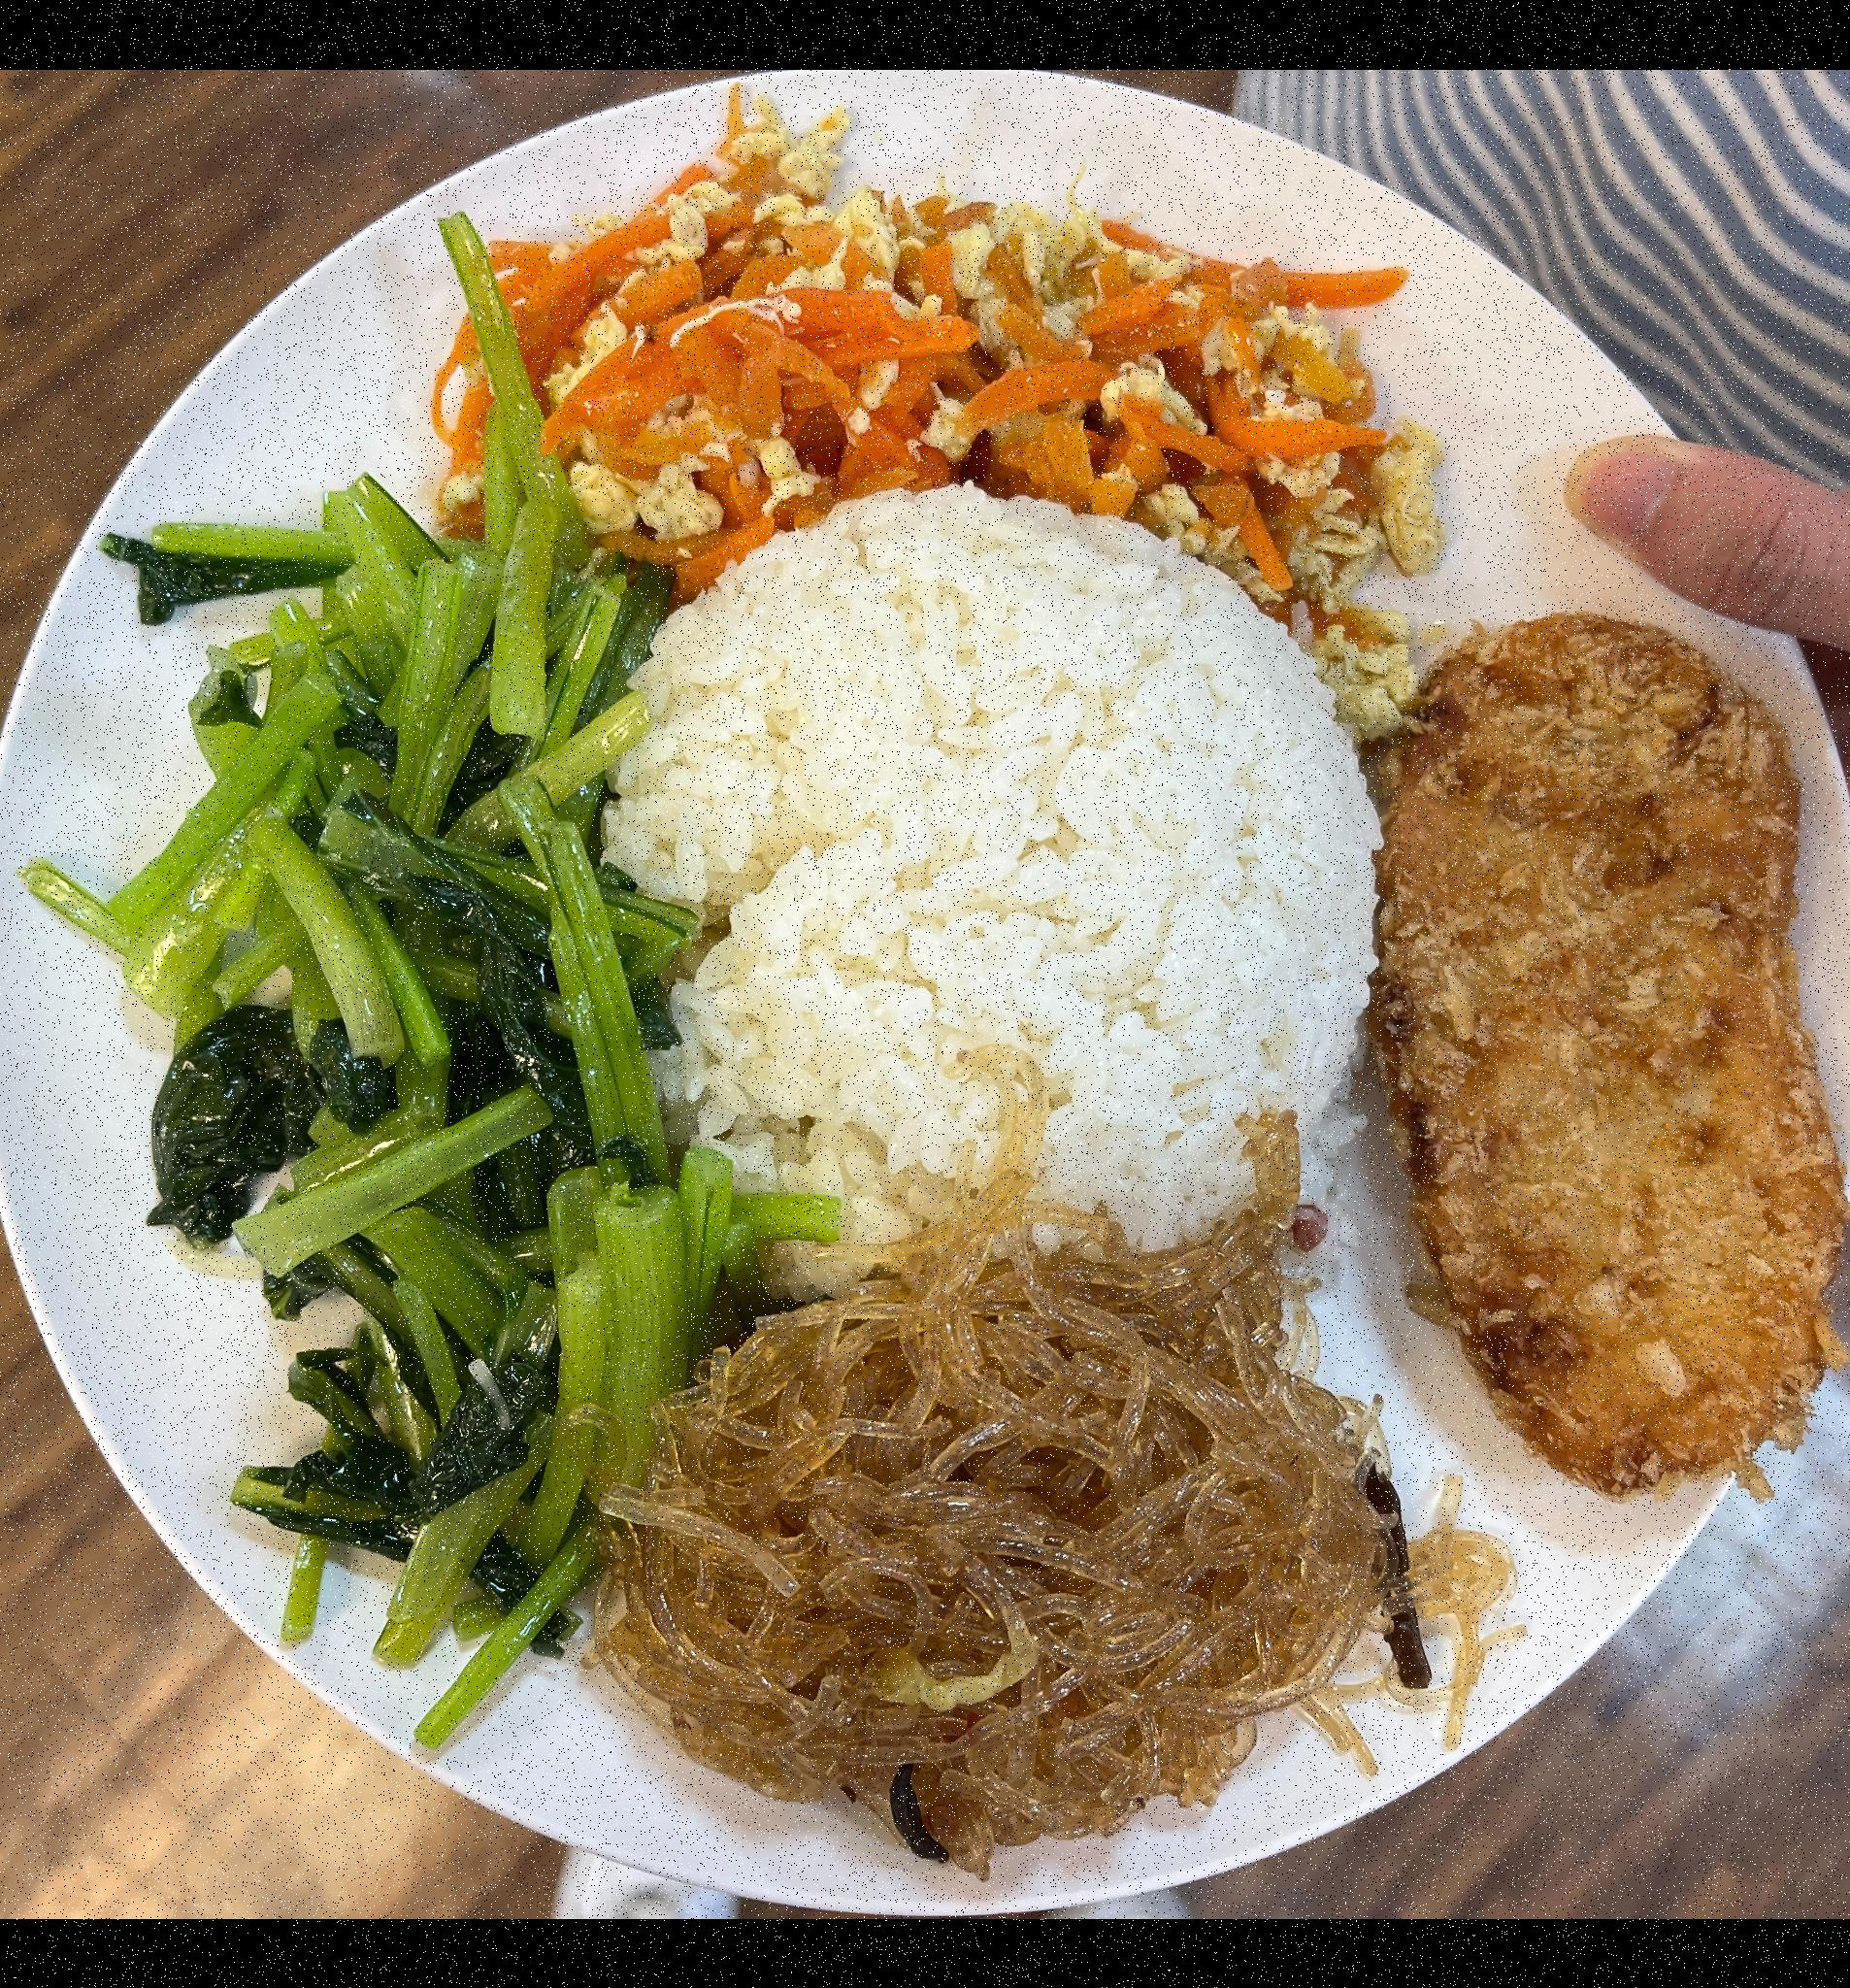cuttlefish steak: (1346, 597, 1850, 1515)
plate: (0, 70, 1850, 1917)
side dish: (123, 461, 689, 1631), (563, 1235, 1379, 1837), (440, 169, 1422, 579)
white rice: (588, 499, 1393, 1310)
